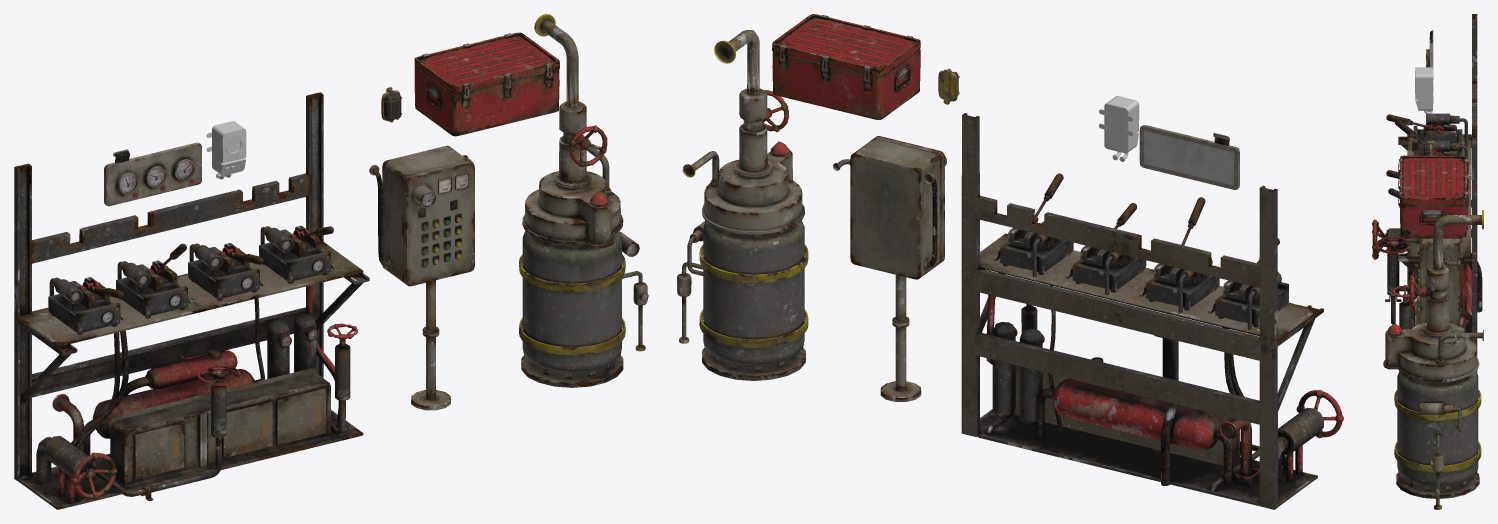
The model's file is HydraulicPack1.fbx.
3 views of the same model, side by side, from view 1: azimuth 30°, elevation 25°; view 2: azimuth 150°, elevation 25°; view 3: azimuth 270°, elevation 25° (orthographic). The views are drawn at different scales.
Parts seen in each view (by area): view 1: SM_HydraulicKitCollection5_A.mo, SM_HydraulicKitCollection2_C.mo, SM_HydraulicKitCollection2_A.mo, SM_HydraulicKitCollection4_B.mo, SM_HydraulicKitCollection3_D.mo, SM_HydraulicKitCollection3_F.mo; view 2: SM_HydraulicKitCollection5_A.mo, SM_HydraulicKitCollection2_C.mo, SM_HydraulicKitCollection2_A.mo, SM_HydraulicKitCollection4_B.mo, SM_HydraulicKitCollection3_D.mo, SM_HydraulicKitCollection3_F.mo; view 3: SM_HydraulicKitCollection2_C.mo, SM_HydraulicKitCollection5_A.mo, SM_HydraulicKitCollection4_B.mo, SM_HydraulicKitCollection2_A.mo, SM_HydraulicKitCollection3_F.mo, SM_HydraulicKitCollection3_D.mo, SM_HydraulicKitCollection4_C.mo.
Part boxes in pixels (x1,y1,x2,y2): SM_HydraulicKitCollection5_A.mo: (14,92,369,509); SM_HydraulicKitCollection2_C.mo: (519,14,648,387); SM_HydraulicKitCollection2_A.mo: (369,145,474,410); SM_HydraulicKitCollection4_B.mo: (414,32,559,136); SM_HydraulicKitCollection3_D.mo: (104,142,201,206); SM_HydraulicKitCollection3_F.mo: (206,121,246,179); SM_HydraulicKitCollection5_A.mo: (961,113,1343,509); SM_HydraulicKitCollection2_C.mo: (677,30,808,380); SM_HydraulicKitCollection2_A.mo: (833,136,946,401); SM_HydraulicKitCollection4_B.mo: (772,14,920,119); SM_HydraulicKitCollection3_D.mo: (1139,125,1239,189); SM_HydraulicKitCollection3_F.mo: (1099,96,1139,161); SM_HydraulicKitCollection2_C.mo: (1383,210,1483,509); SM_HydraulicKitCollection5_A.mo: (1372,14,1482,372); SM_HydraulicKitCollection4_B.mo: (1398,155,1468,238); SM_HydraulicKitCollection2_A.mo: (1406,238,1460,325); SM_HydraulicKitCollection3_F.mo: (1415,67,1433,115); SM_HydraulicKitCollection3_D.mo: (1426,30,1433,103); SM_HydraulicKitCollection4_C.mo: (1422,140,1433,155).
Bounding box in the file's own units: 505 × 262 × 97.85.
